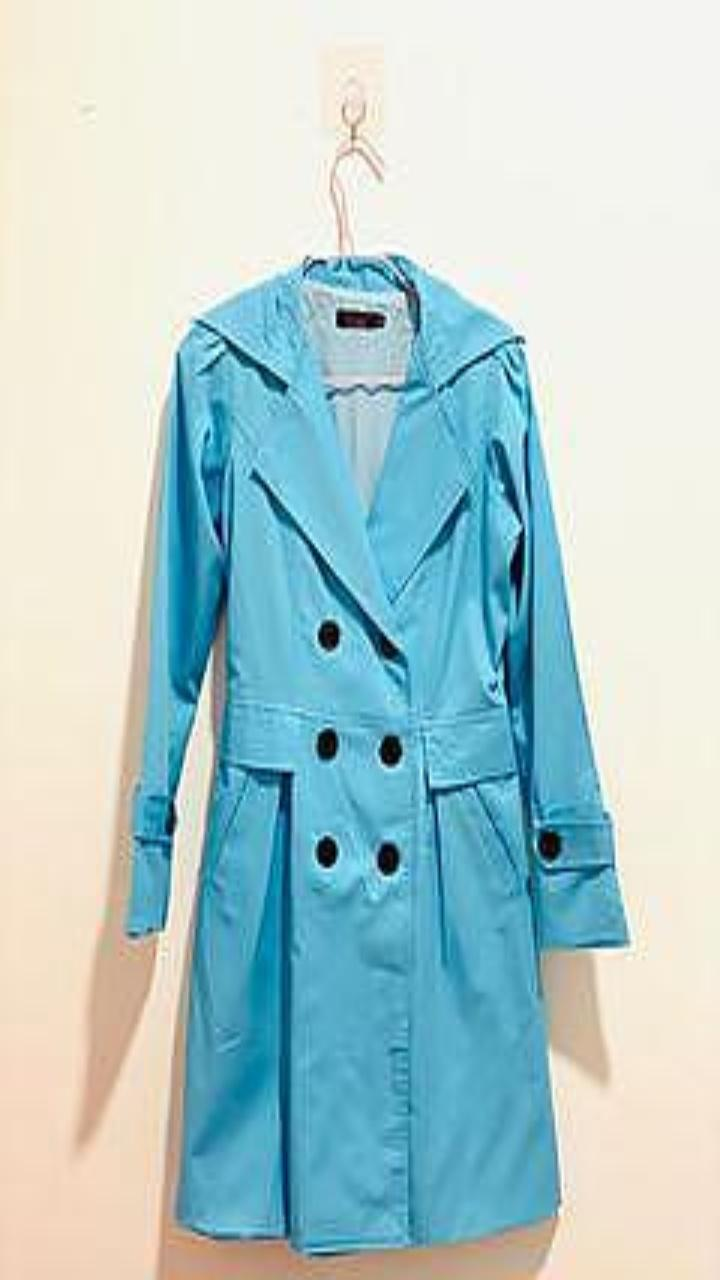Coat: (125, 253, 628, 1253)
